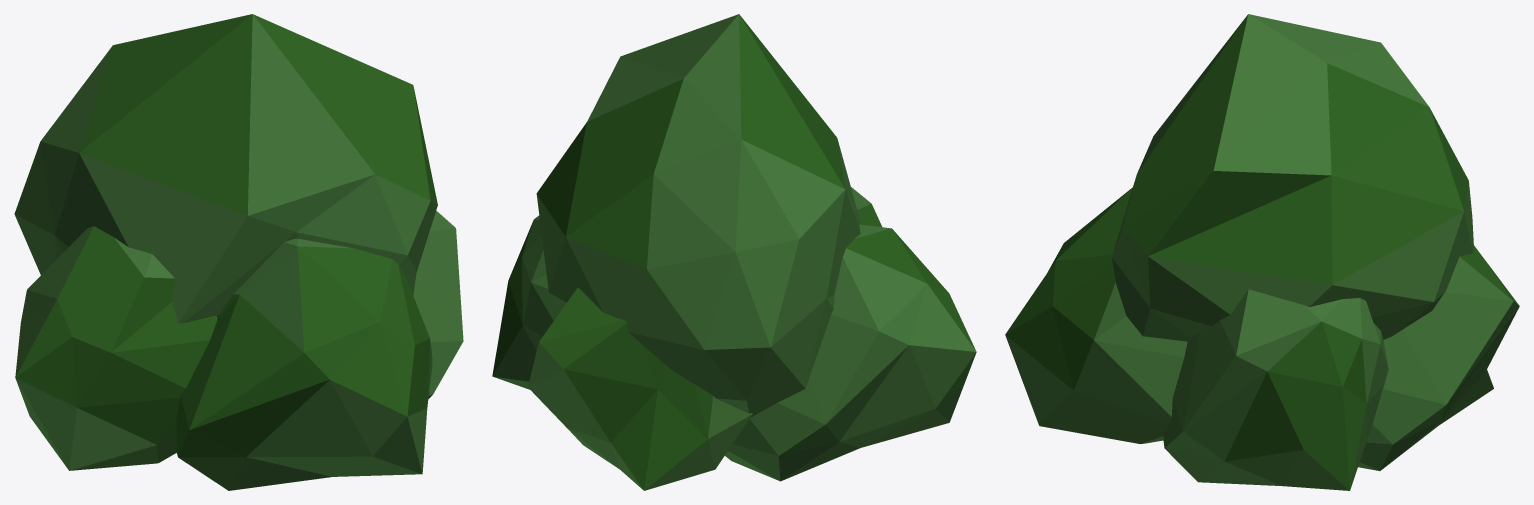
Rendered from PotPlant_02.fbx.
3 renders of one model, left to right at view 1: azimuth 30°, elevation 25°; view 2: azimuth 150°, elevation 25°; view 3: azimuth 270°, elevation 25°, orthographic. The views are drawn at different scales.
Parts seen in each view (by area): view 1: PotPlant_02; view 2: PotPlant_02; view 3: PotPlant_02.
Part boxes in pixels (x1,y1,x2,y2): PotPlant_02: (14, 14, 463, 490); PotPlant_02: (492, 14, 976, 490); PotPlant_02: (1005, 14, 1519, 490).
Bounding box in the file's own units: 14.28 × 13.25 × 14.63.
